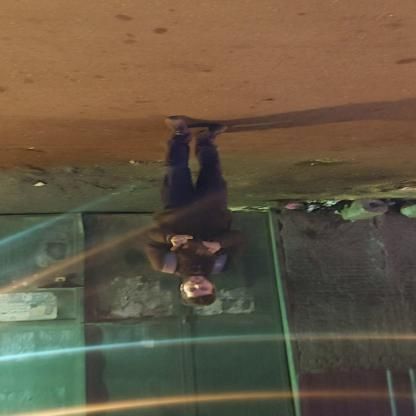long weapon: (145, 227, 231, 267)
